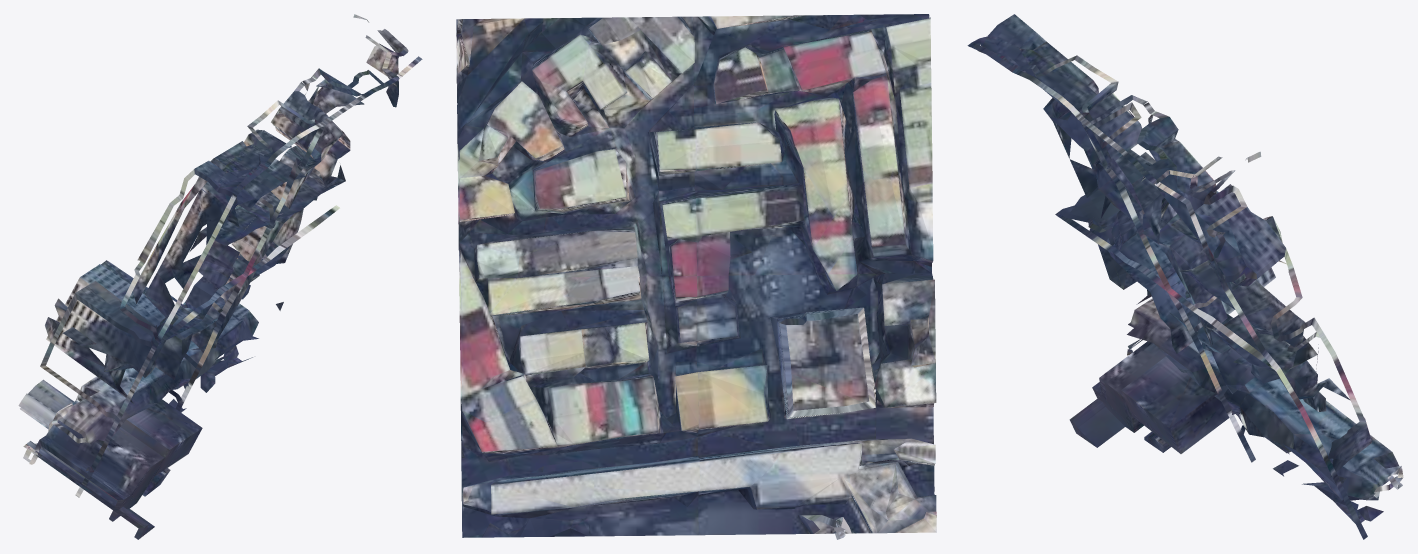
3 views of the same model, side by side, from view 1: azimuth 30°, elevation 25°; view 2: azimuth 150°, elevation 25°; view 3: azimuth 270°, elevation 25° (orthographic). The views are drawn at different scales.
Size of the model in its own units: 166 by 160 by 141.
2 materials, 2 textured.
